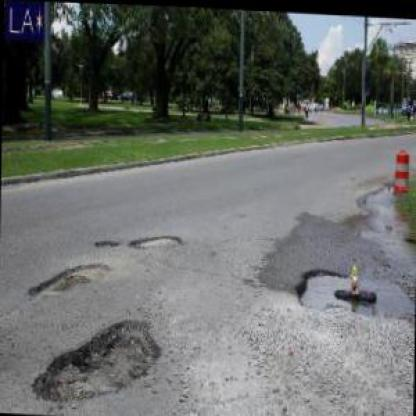pothole: (31, 310, 162, 410), (294, 261, 415, 320), (26, 255, 111, 301), (128, 230, 182, 247), (93, 236, 119, 247)
